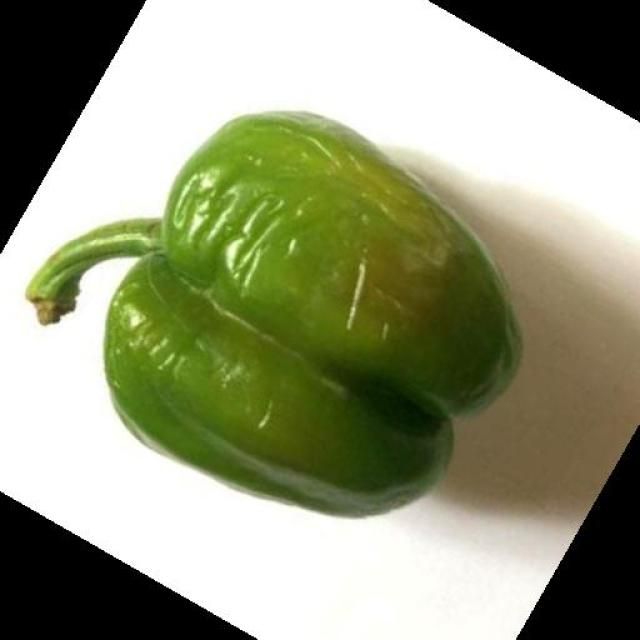Stale_Capsicum: (105, 116, 442, 484)
